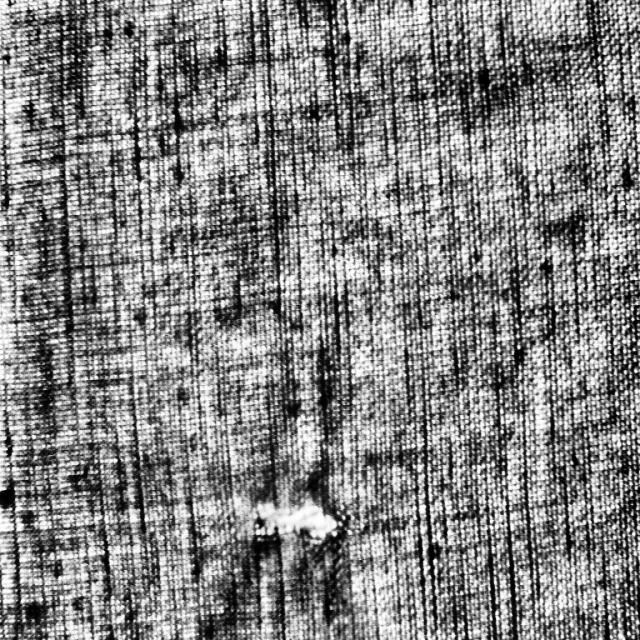Hole: (251, 496, 354, 554)
